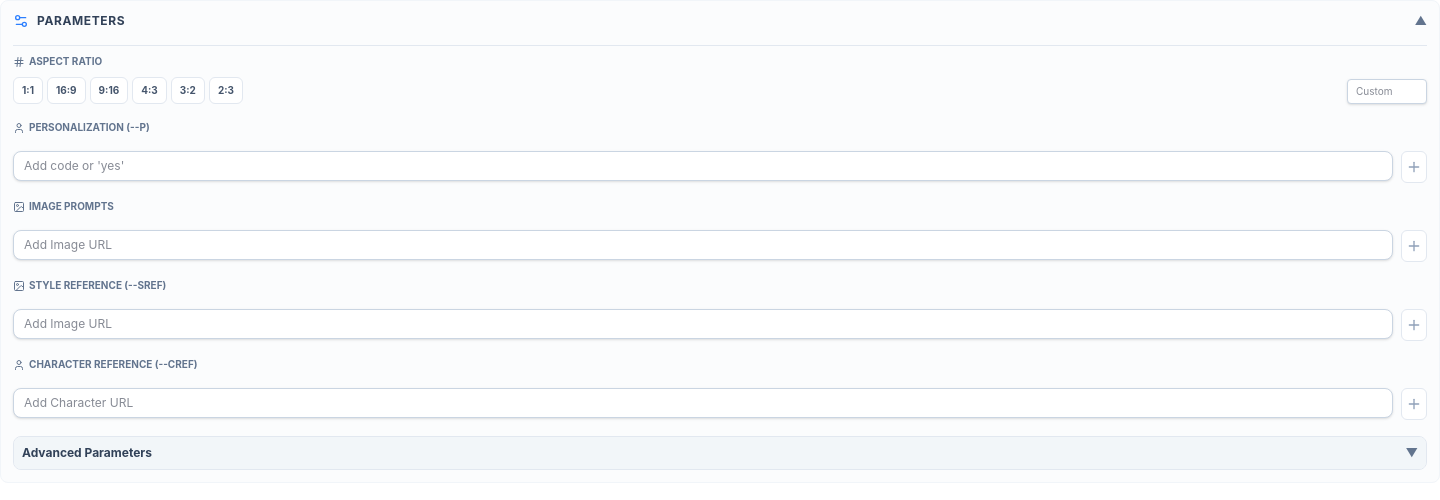
Scenario: ParameterEditor › should load autocomplete suggestions from existing cards in database
Focus the field with placeholder "Add Image URL" below "Image Prompts": (703,245) [13, 230, 1393, 260]
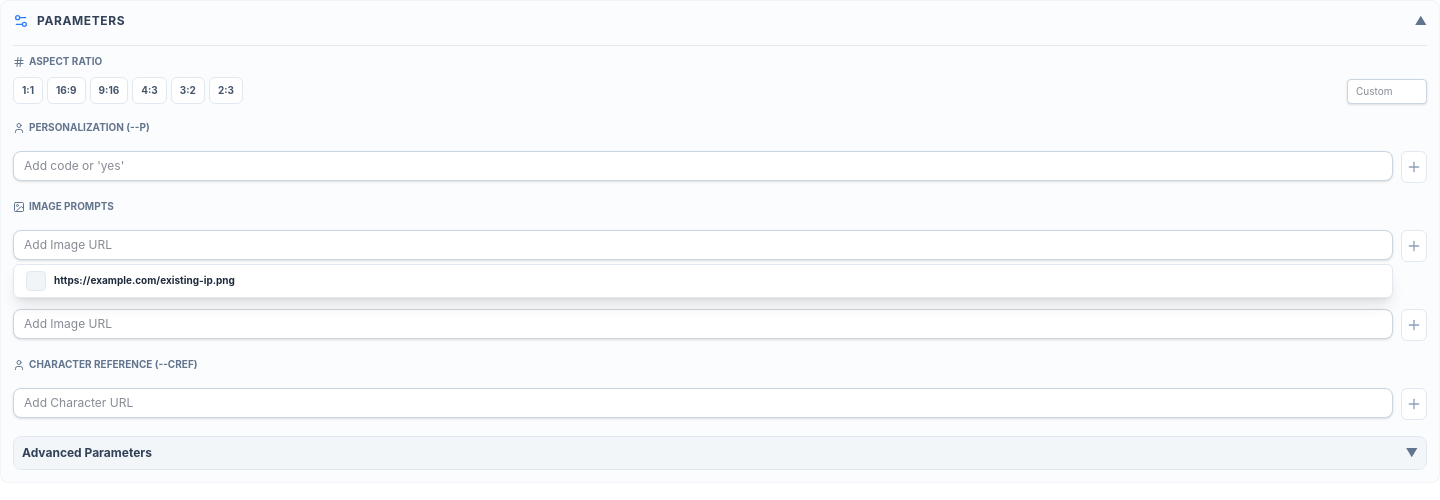
Expected: the text "https://example.com/existing-ip.png" is shown, [54, 274, 235, 286]
Focus the field with placeholder "Add Image URL" below "Style Reference (--sref)": (703,324) [13, 309, 1393, 339]
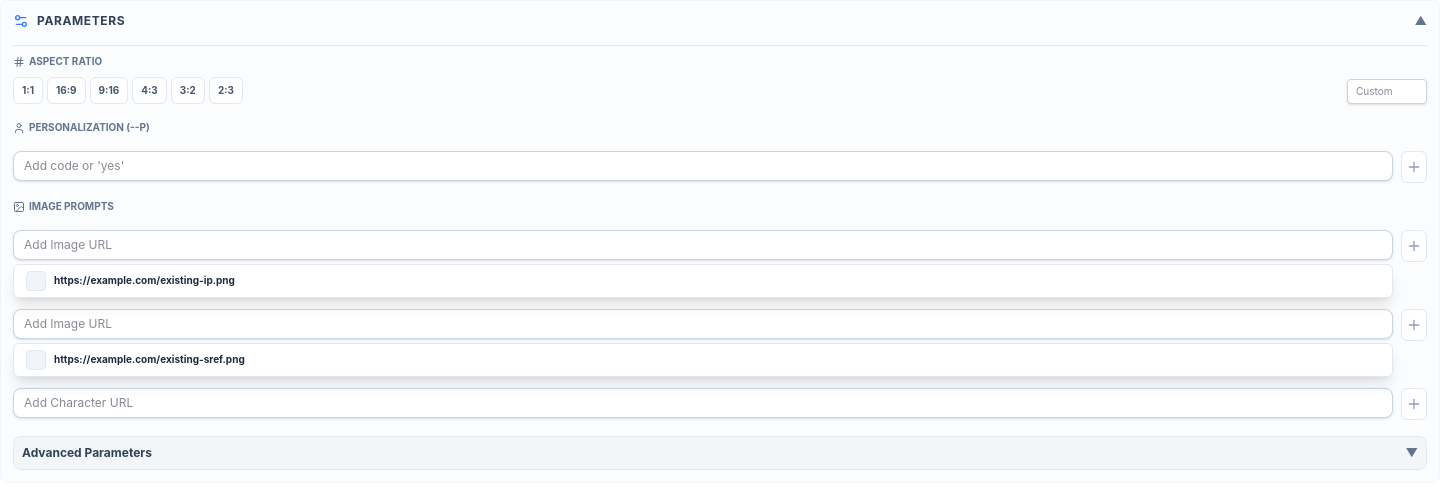
Expected: the text "https://example.com/existing-sref.png" is shown, [54, 353, 245, 365]
Focus the field with placeholder "Add Character URL": (703,403) [13, 388, 1393, 418]
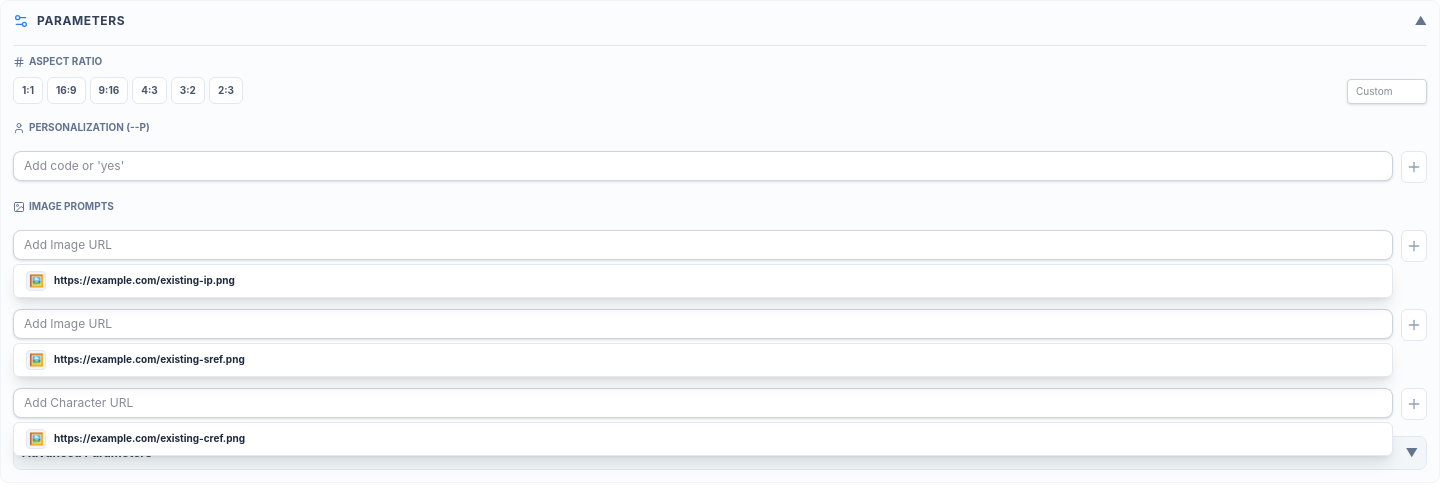
Expected: the text "https://example.com/existing-cref.png" is shown, [54, 432, 245, 444]
